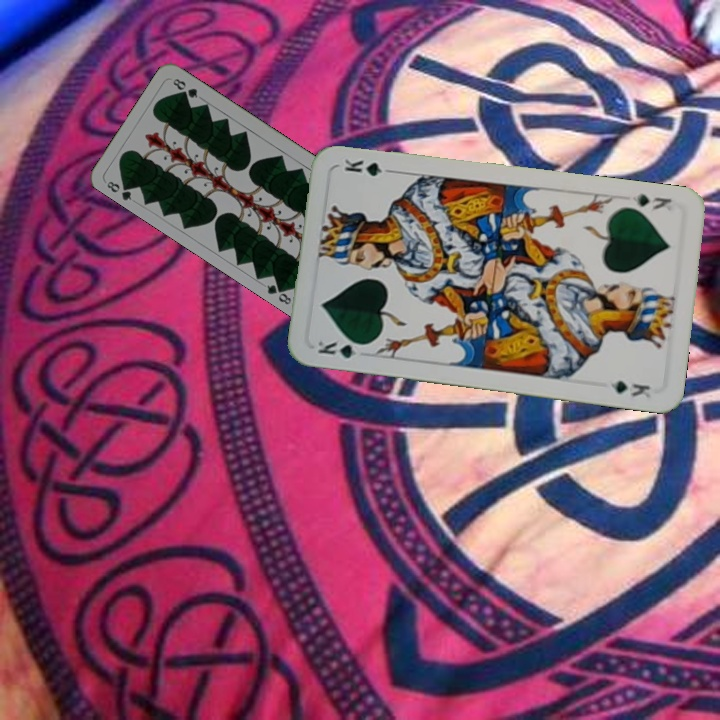G8: (103, 177, 135, 203)
GK: (314, 336, 371, 361), (628, 190, 675, 213)
